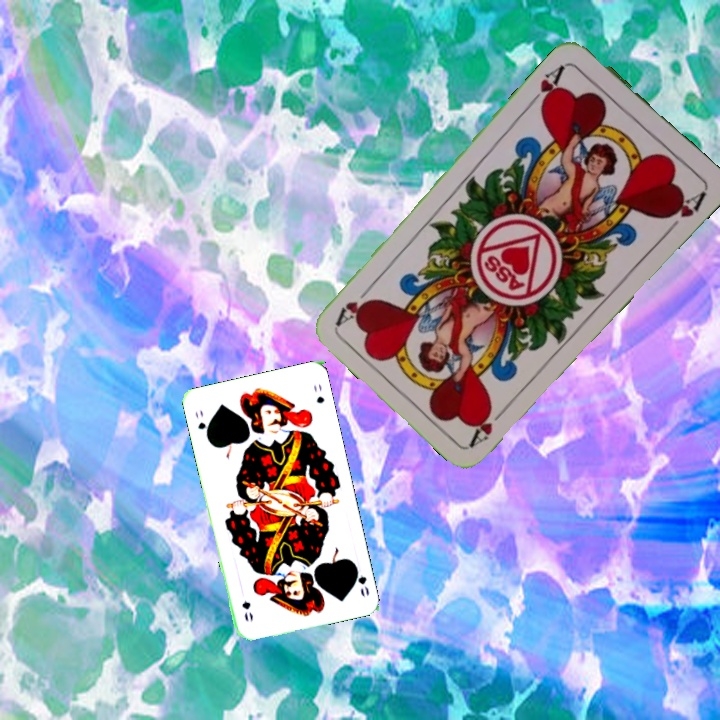GO: (350, 560, 372, 600), (191, 406, 211, 442)
HA: (525, 60, 570, 112), (466, 400, 511, 449)
